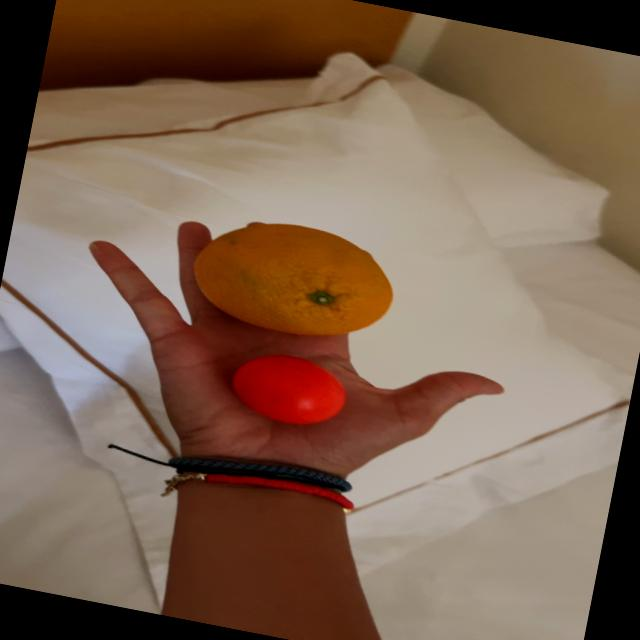orange: (194, 224, 391, 335)
